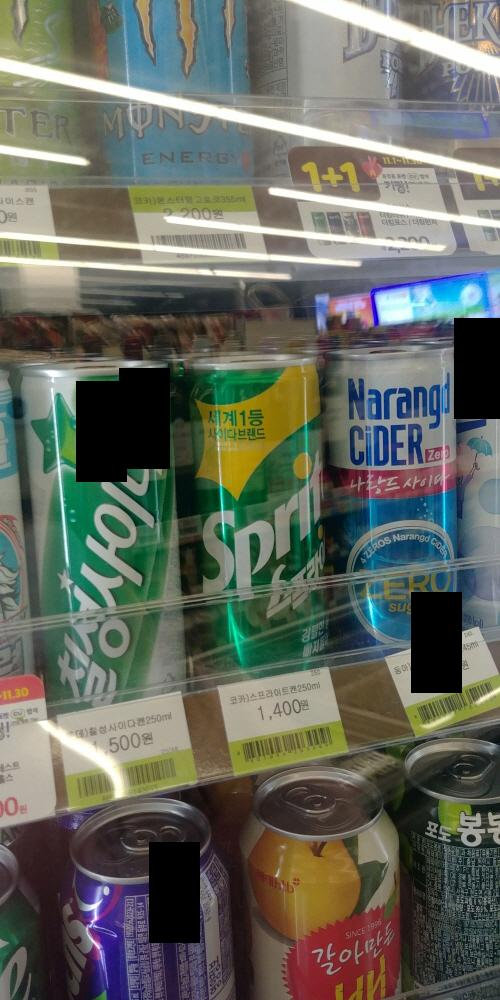narangdcider: (326, 338, 461, 650)
